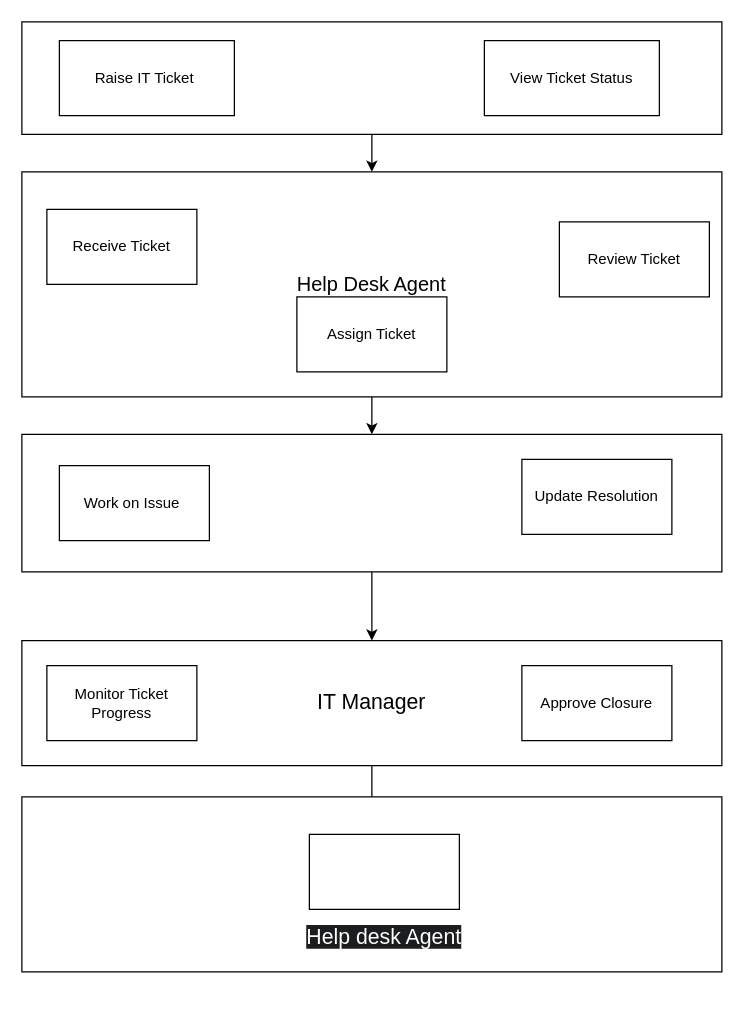
Image size: 744x1009. Some labels were removed from this diagram. The shapes that lost their labels are listed below. From the top down, each one's box as (x1, y1, x2, y2) in pixels, then its label:
(21, 21, 722, 134): Empolyee
(21, 433, 722, 572): IT Technician
(308, 833, 459, 909): Close Ticket
